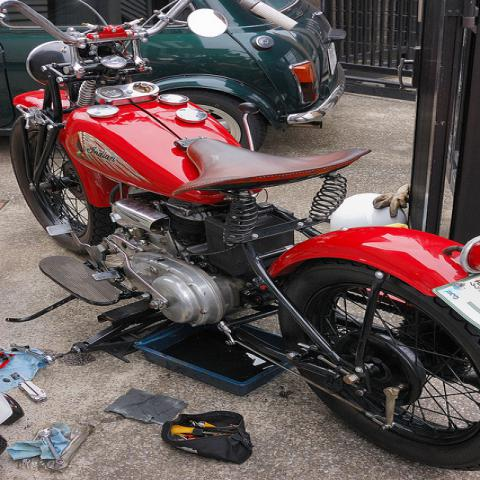car: (0, 0, 352, 152)
motorcycle: (2, 0, 478, 472)
